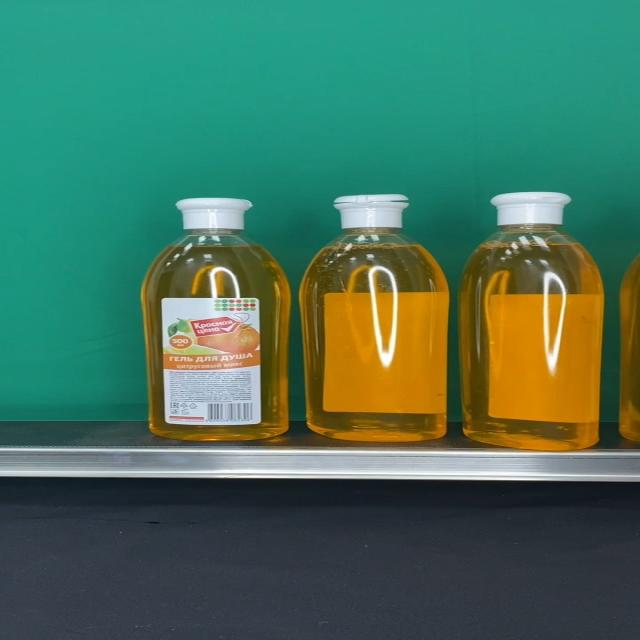Bottle: (457, 192, 605, 451), (298, 194, 449, 442), (142, 197, 290, 441)
Cap: (490, 192, 572, 227), (176, 197, 254, 231), (334, 194, 411, 228)
